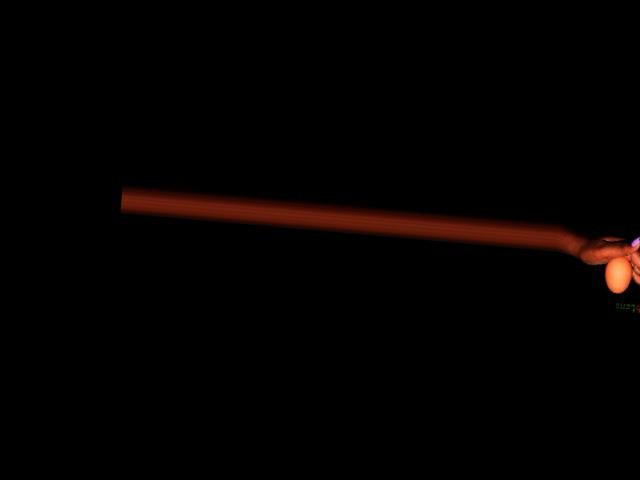egg: (602, 255, 633, 294)
